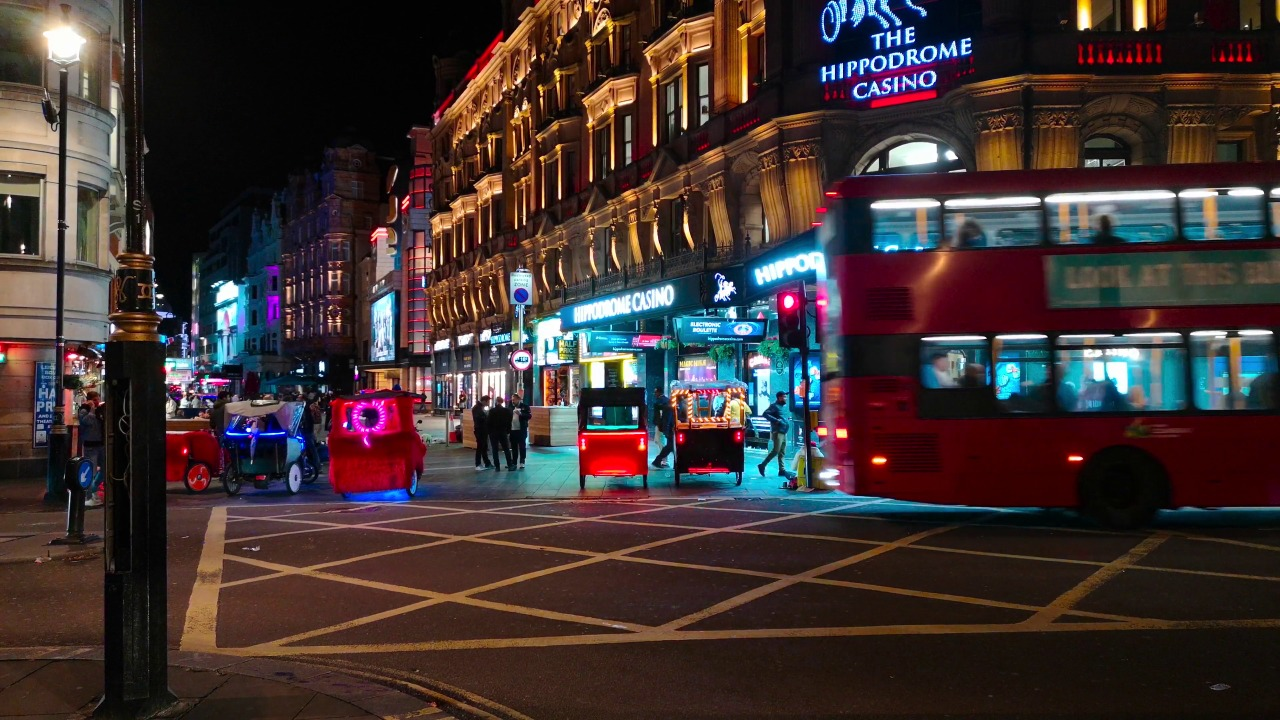car: (815, 169, 1280, 530), (327, 384, 435, 503), (222, 397, 322, 497), (671, 379, 754, 494), (576, 387, 648, 494), (164, 418, 226, 491)
person: (77, 392, 112, 508), (760, 387, 792, 480), (470, 392, 495, 477), (490, 398, 513, 472), (791, 439, 825, 488), (509, 392, 528, 470), (659, 402, 677, 467), (649, 386, 667, 443), (725, 392, 749, 424), (712, 392, 724, 412)
